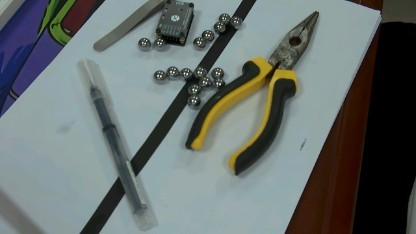ironball: (146, 63, 166, 81), (151, 33, 168, 51), (136, 35, 153, 51), (210, 63, 225, 80), (214, 9, 233, 22), (200, 24, 217, 38), (165, 63, 179, 80), (230, 15, 244, 31), (213, 19, 226, 36), (199, 75, 214, 89), (185, 93, 200, 106), (186, 83, 201, 95), (193, 35, 206, 48), (195, 66, 208, 78), (212, 79, 226, 90), (180, 66, 191, 78)
